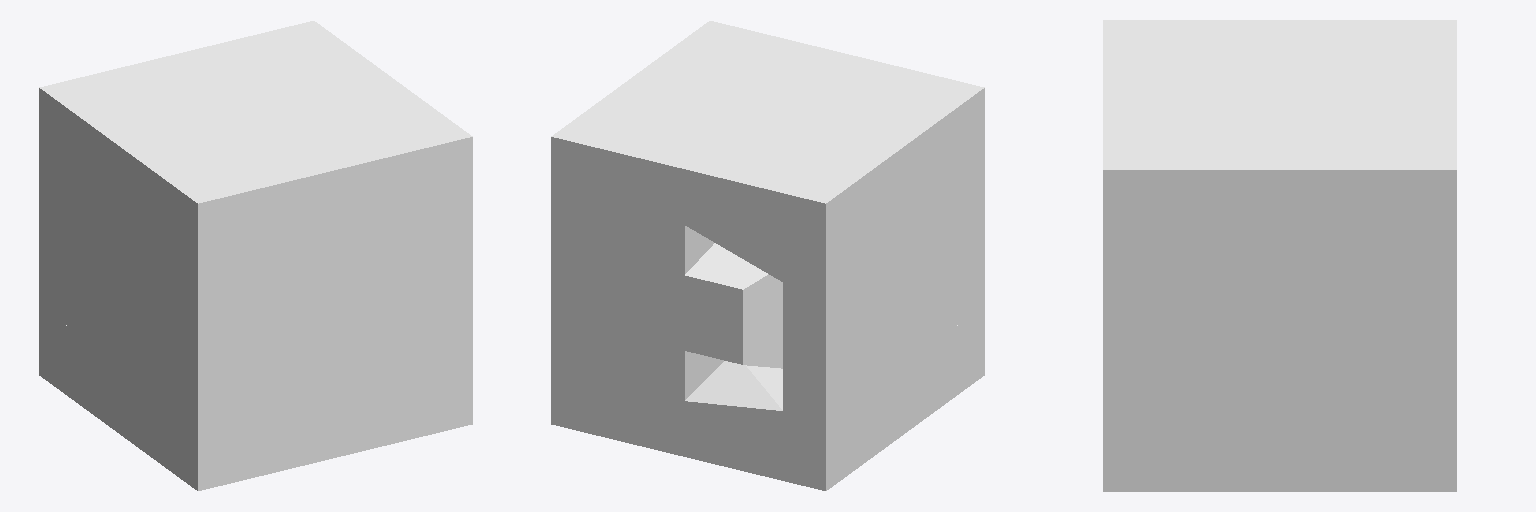
The robot description file, URDF, robot "U_cube_bottle_preprocessed_convex":
<?xml version="1.0" ?>
<robot name="U_cube_bottle_preprocessed_convex">
  <link name="baseLink">
    <contact>
    	<friction_anchor/>
    	   <lateral_friction value="1.0"/>
    </contact>
    <inertial>
      <origin rpy="0 0 0" xyz="0 0 0"/>
       <!-- mass controls penetration -->
       <mass value=".5"/>
       <inertia ixx="1e-4" ixy="0" ixz="0" iyy="1e-4" iyz="0" izz="1e-4"/>
    </inertial>
    <visual>
      <origin rpy="0 0 0" xyz="0 0 0"/>
      <geometry>
        <mesh filename="U_cube_bottle_preprocessed_convex.obj"/>
      </geometry>
       <material name="white">
        <color rgba="1 1 1 1"/>
      </material>
    </visual>
    <collision>
      <origin rpy="0 0 0" xyz="0 0 0"/>
      <geometry>
        <mesh filename="U_cube_bottle_preprocessed_convex.obj"/>
      </geometry>
    </collision>
  </link>
</robot>

--- Facts derived from the render (not from the file) ---
3 views of the same robot in one strip: view 1: azimuth 30°, elevation 25°; view 2: azimuth 150°, elevation 25°; view 3: azimuth 270°, elevation 25° (orthographic).
Robot: U_cube_bottle_preprocessed_convex — 1 links, 0 joints (none); root link baseLink; default pose: every joint at zero.
Links seen in each view (by area): view 1: baseLink; view 2: baseLink; view 3: baseLink.
Link boxes in pixels (x1,y1,x2,y2): baseLink: (39,21,472,490); baseLink: (551,21,984,490); baseLink: (1103,20,1456,491).
Bounding box of the posed robot: 0.0808 × 0.0808 × 0.0808 m (x, y, z).
Meshes: 1 distinct files referenced, 1 mesh visuals loaded (1 OBJ).